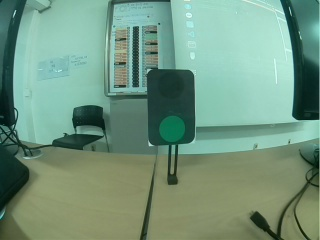green_light: (147, 70, 199, 146)
